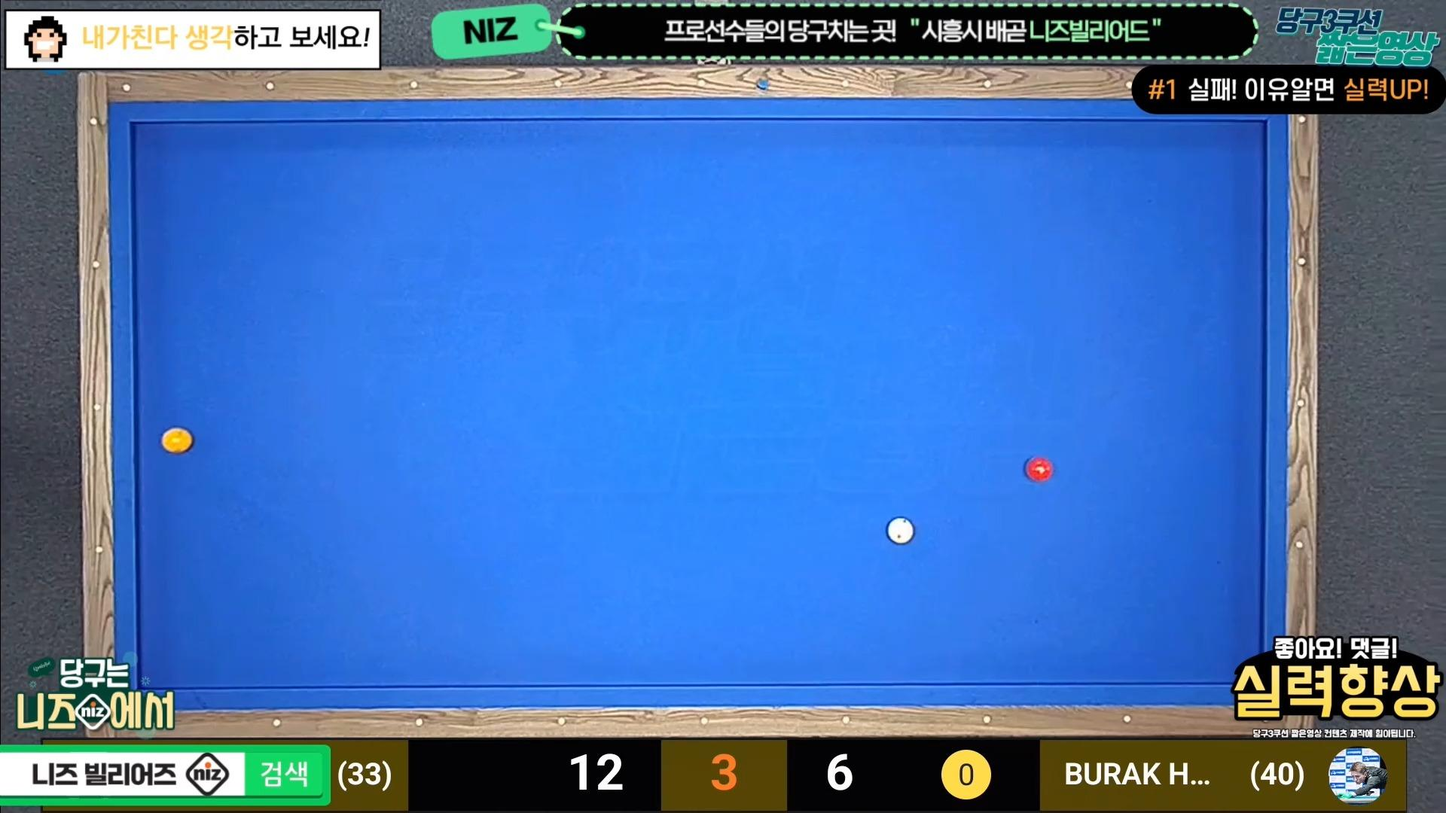billiard-ball-Red: (1027, 455, 1057, 485)
billiard-ball-Yellow: (162, 425, 196, 454)
billiard-ball-white: (885, 516, 914, 545)
